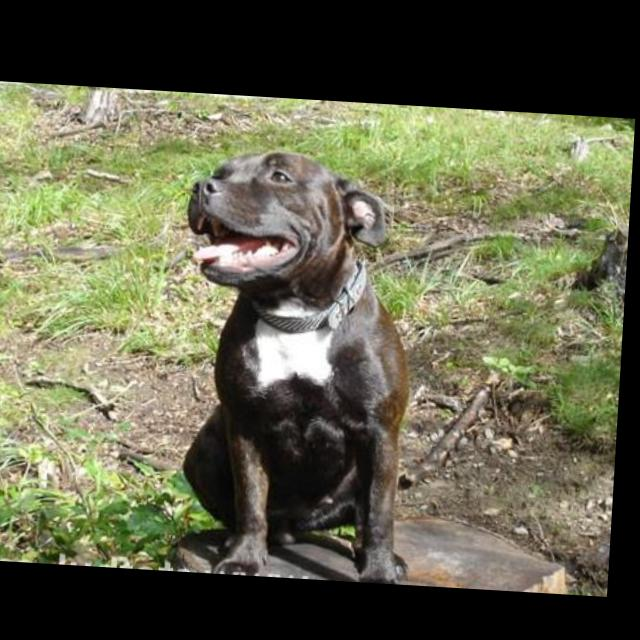staffford: (174, 143, 437, 581)
